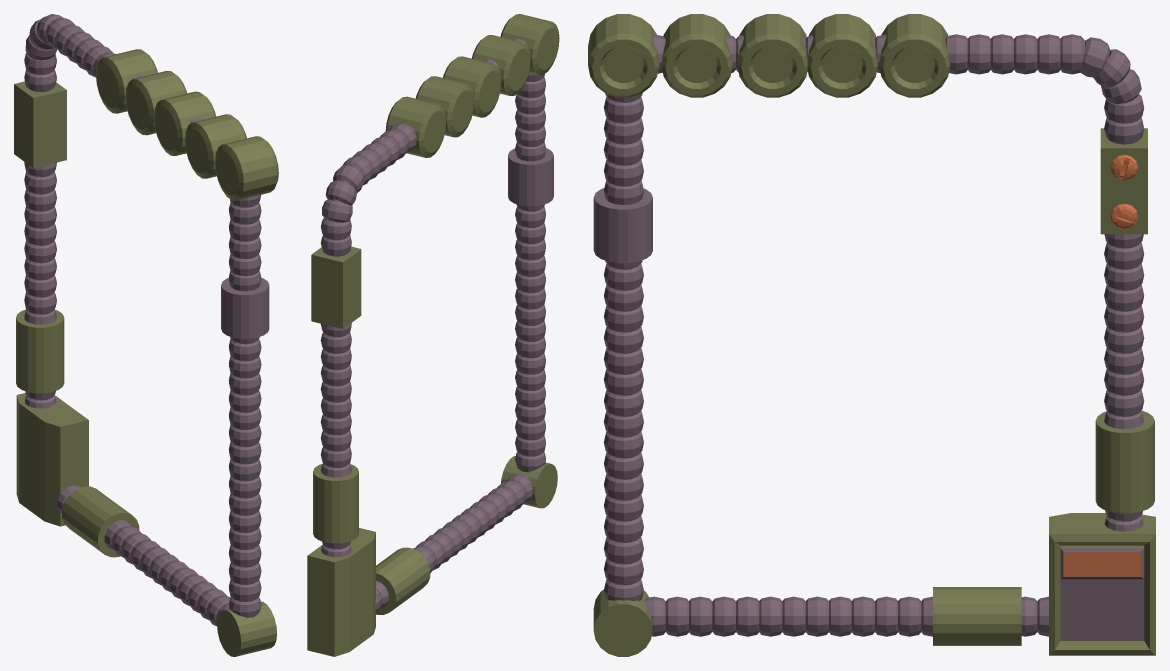
Rendered from SlotMachineFrame.fbx.
3 views of the same model, side by side, from view 1: azimuth 30°, elevation 25°; view 2: azimuth 150°, elevation 25°; view 3: azimuth 270°, elevation 25° (orthographic). The views are drawn at different scales.
Visible parts, largest first — view 1: Cylinder.009; view 2: Cylinder.009; view 3: Cylinder.009.
Boxes of the visible parts, x1,y1,x2,y2 form: Cylinder.009: (14,14,278,656); Cylinder.009: (307,14,559,656); Cylinder.009: (588,14,1155,656).
Size of the model in its own units: 199 by 2320 by 1919.
